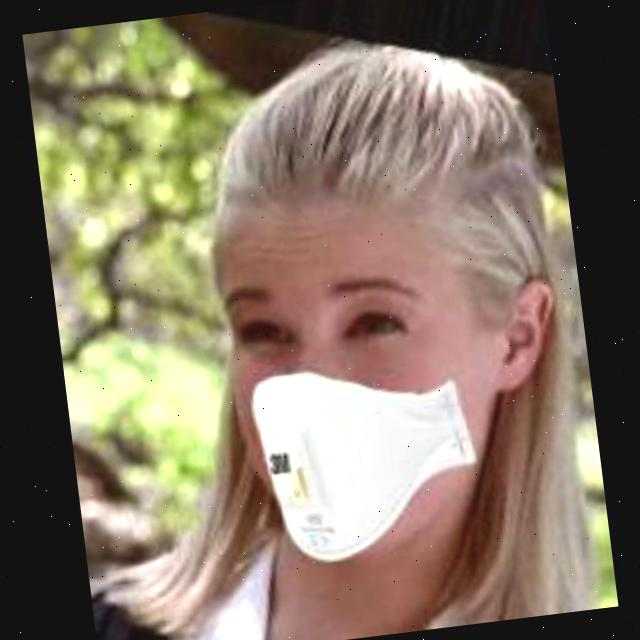suspicion: (186, 87, 520, 546)
